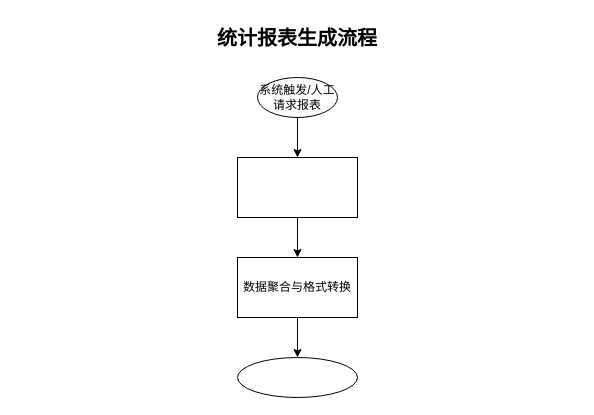
The diagram is 594 pixels wide and 415 high, and some of its shapes have lost their labels. Each missing label, with the centre of its shape:
多表关联查询(成绩/签到/作业): point 297,187
生成可视化图表/Excel导出: point 297,377
